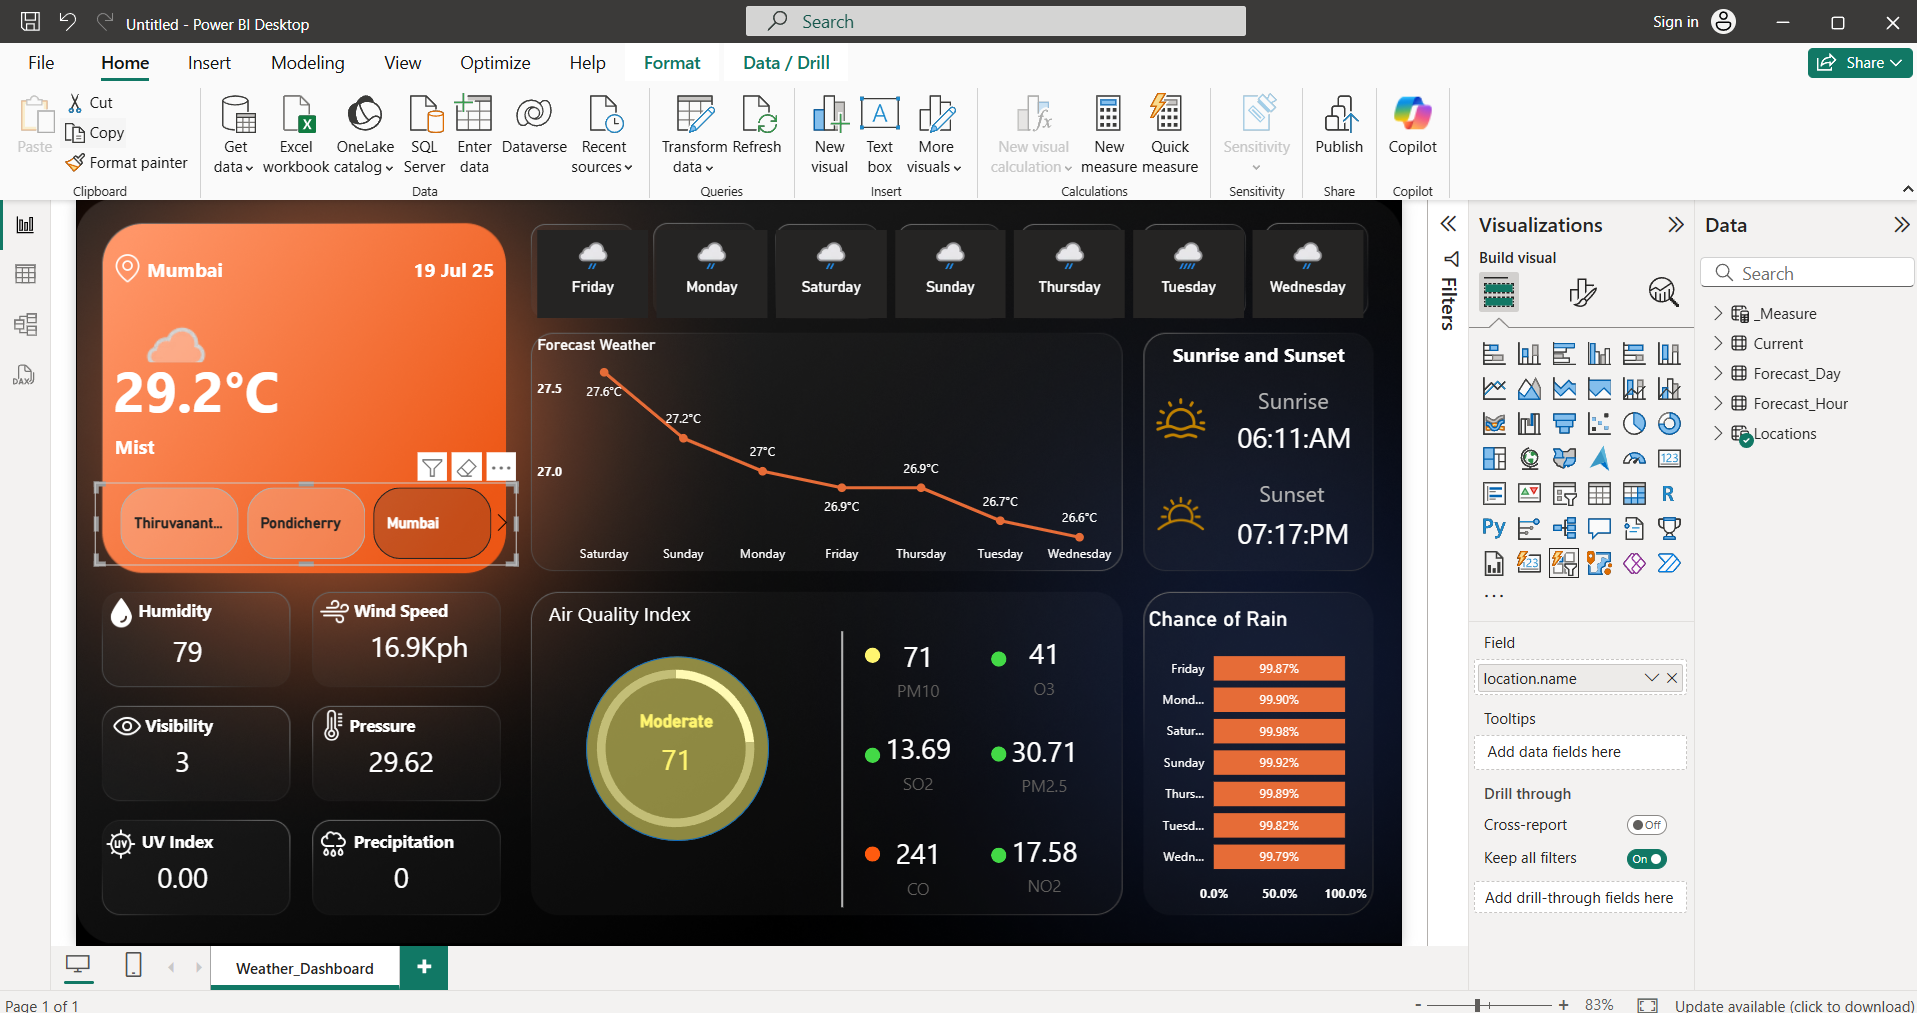

What the dashboard file says about the page in this screenshot:
{"tool":"powerbi","page":{"name":"Weather_Dashboard","canvas":[1280,720],"ordinal":0},"visuals":[{"type":"donutChart","fields":{"Y":["Sum(Current.current.air_quality.pm10)","_Measure.Left_value_PM10"]},"box":[468.3,430,221.7,200],"z":0},{"type":"shape","box":[491.7,440,176.7,178.3],"z":1000},{"type":"advancedSlicerVisual","fields":{"Values":["Locations.location.name"]},"box":[17.9,273.1,408.1,79.7],"z":2000},{"type":"shape","box":[35.8,126.8,190.2,110.6],"z":3000},{"type":"shape","box":[37,217.2,188.1,41.3],"z":4000},{"type":"shape","box":[68.3,45.5,188.6,40.6],"z":5000},{"type":"shape","box":[250.4,45.5,152.8,40.6],"z":6000},{"type":"image","box":[30.9,45.5,37.4,40.6],"z":7000},{"type":"cardVisual","fields":{"Data":["Min(Current.current.condition.icon)"]},"box":[35.8,86.2,95.9,76.4],"z":8000},{"type":"image","box":[24.4,487.7,50.4,40.6],"z":9000},{"type":"image","box":[222.7,601.5,50.4,39],"z":10000},{"type":"image","box":[17.9,601.5,50.4,39],"z":11000},{"type":"image","box":[224.4,377.2,50.4,39],"z":12000},{"type":"image","box":[19.5,378.8,48.8,39],"z":13000},{"type":"image","box":[222.7,487.7,50.4,39],"z":14000},{"type":"textbox","box":[43.9,380.4,104,37.4],"z":15000},{"type":"textbox","box":[248.7,380.4,115.4,37.4],"z":16000},{"type":"textbox","box":[50.4,491,97.5,37.4],"z":17000},{"type":"textbox","box":[250.4,491,89.4,37.4],"z":18000},{"type":"textbox","box":[48.8,603.2,99.2,37.4],"z":19000},{"type":"textbox","box":[263.4,603.2,123.6,37.4],"z":20000},{"type":"card","fields":{"Values":["Sum(Current.current.humidity)"]},"box":[68.3,400,78.3,71.7],"z":21000},{"type":"card","fields":{"Values":["_Measure.Wind_Speed"]},"box":[274.8,399.9,112.2,65],"z":22000},{"type":"card","fields":{"Values":["Sum(Current.current.pressure_in)"]},"box":[274.8,510.5,78,65],"z":23000},{"type":"card","fields":{"Values":["Sum(Current.current.vis_km)"]},"box":[63.4,510.5,78,65],"z":24000},{"type":"card","fields":{"Values":["Sum(Current.current.uv)"]},"box":[63.4,622.7,78,65],"z":25000},{"type":"card","fields":{"Values":["Sum(Current.current.precip_mm)"]},"box":[274.8,622.7,78,65],"z":26000},{"type":"advancedSlicerVisual","fields":{"Values":["Forecast_Day.Day_Name"]},"box":[440.6,24.4,811.3,95.9],"z":27000},{"type":"lineChart","title":"Forecast Weather","fields":{"Y":["Sum(Forecast_Day.forecast.forecastday.day.avgtemp_c)"],"Category":["Forecast_Day.Day_Name"]},"box":[440,131.7,570,228.3],"z":28000},{"type":"textbox","box":[1031.7,131.7,220,50],"z":29000},{"type":"shape","box":[1120.8,209.9,136.3,37.4],"z":30000},{"type":"shape","box":[1120.6,303.3,136.7,36.7],"z":31000},{"type":"textbox","box":[1120.6,173.3,108.3,53.3],"z":32000},{"type":"textbox","box":[1078.9,263.3,190,58.3],"z":33000},{"type":"image","box":[1031.7,268.3,70,70],"z":34000},{"type":"image","box":[1031.7,181.7,70,56.7],"z":35000},{"type":"textbox","box":[451.7,381.7,220,50],"z":36000},{"type":"card","fields":{"Values":["Sum(Current.current.air_quality.pm10)"]},"box":[761.7,416.7,103.3,71.7],"z":37000},{"type":"card","fields":{"Values":["Sum(Current.current.air_quality.pm2_5)"]},"box":[883.3,505,103.3,76.7],"z":38000},{"type":"card","fields":{"Values":["Sum(Current.current.air_quality.no2)"]},"box":[883.3,601.7,103.3,76.7],"z":39000},{"type":"card","fields":{"Values":["Sum(Current.current.air_quality.o3)"]},"box":[883.3,411.7,103.3,76.7],"z":40000},{"type":"card","fields":{"Values":["Sum(Current.current.air_quality.so2)"]},"box":[761.1,505,103.3,71.7],"z":41000},{"type":"card","fields":{"Values":["Sum(Current.current.air_quality.co)"]},"box":[761.1,606.7,103.3,71.7],"z":42000},{"type":"shape","box":[761.1,431.7,15,15],"z":43000},{"type":"shape","box":[761.1,623.3,15,15],"z":44000},{"type":"shape","box":[761.1,528.3,15,15],"z":45000},{"type":"shape","box":[883.3,435,15,15],"z":46000},{"type":"shape","box":[883.3,526.7,15,15],"z":47000},{"type":"shape","box":[883.3,625,15,15],"z":48000},{"type":"shape","box":[718.3,416.7,43.3,266.7],"z":49000},{"type":"card","fields":{"Values":["Sum(Current.current.air_quality.pm10)"]},"box":[518.3,491.7,121.7,78.3],"z":50000},{"type":"hundredPercentStackedBarChart","title":"Chance of Rain","fields":{"Category":["Forecast_Day.Day_Name"],"Y":["Sum(Forecast_Hour.forecast.forecastday.hour.chance_of_rain)","_Measure.Left_value_Rain"]},"box":[1030.3,392.1,220.8,295.6],"z":51000}]}

Visuals, with their boxes on the page's 1280x720 design canvas (x1, y1, x2, y2). These are canvas units, not pixel positions in the 1917x1013 screenshot, which may show the page scaled, cropped or inside an application window:
donutChart - Sum(Current.current.air_quality.pm10) x _Measure.Left_value_PM10: 468,430,690,630
shape: 492,440,668,618
advancedSlicerVisual - Locations.location.name: 18,273,426,353
shape: 36,127,226,237
shape: 37,217,225,258
shape: 68,46,257,86
shape: 250,46,403,86
image: 31,46,68,86
cardVisual - Min(Current.current.condition.icon): 36,86,132,163
image: 24,488,75,528
image: 223,602,273,640
image: 18,602,68,640
image: 224,377,275,416
image: 20,379,68,418
image: 223,488,273,527
textbox: 44,380,148,418
textbox: 249,380,364,418
textbox: 50,491,148,528
textbox: 250,491,340,528
textbox: 49,603,148,641
textbox: 263,603,387,641
card - Sum(Current.current.humidity): 68,400,147,472
card - _Measure.Wind_Speed: 275,400,387,465
card - Sum(Current.current.pressure_in): 275,510,353,576
card - Sum(Current.current.vis_km): 63,510,141,576
card - Sum(Current.current.uv): 63,623,141,688
card - Sum(Current.current.precip_mm): 275,623,353,688
advancedSlicerVisual - Forecast_Day.Day_Name: 441,24,1252,120
"Forecast Weather" lineChart: 440,132,1010,360
textbox: 1032,132,1252,182
shape: 1121,210,1257,247
shape: 1121,303,1257,340
textbox: 1121,173,1229,227
textbox: 1079,263,1269,322
image: 1032,268,1102,338
image: 1032,182,1102,238
textbox: 452,382,672,432
card - Sum(Current.current.air_quality.pm10): 762,417,865,488
card - Sum(Current.current.air_quality.pm2_5): 883,505,987,582
card - Sum(Current.current.air_quality.no2): 883,602,987,678
card - Sum(Current.current.air_quality.o3): 883,412,987,488
card - Sum(Current.current.air_quality.so2): 761,505,864,577
card - Sum(Current.current.air_quality.co): 761,607,864,678
shape: 761,432,776,447
shape: 761,623,776,638
shape: 761,528,776,543
shape: 883,435,898,450
shape: 883,527,898,542
shape: 883,625,898,640
shape: 718,417,762,683
card - Sum(Current.current.air_quality.pm10): 518,492,640,570
"Chance of Rain" hundredPercentStackedBarChart: 1030,392,1251,688
